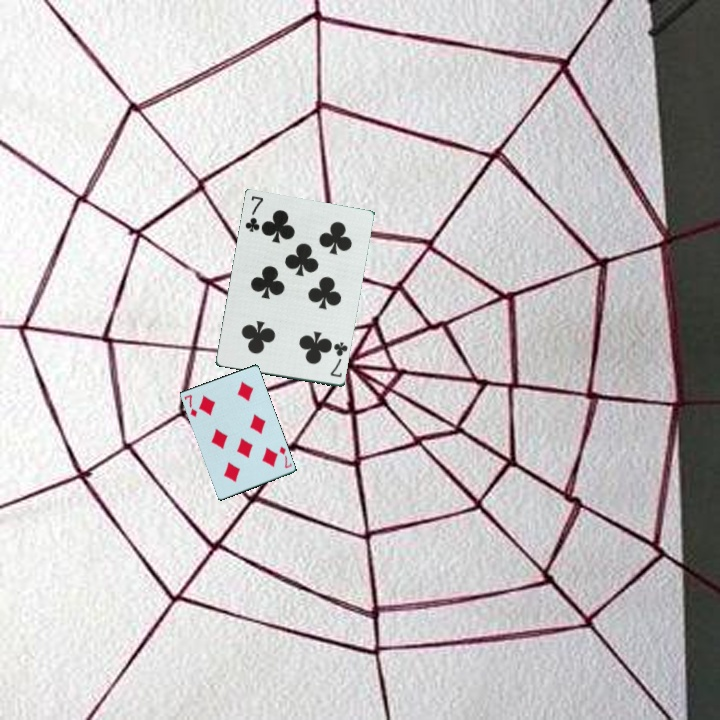7c: (327, 338, 351, 380), (242, 193, 265, 235)
7d: (181, 391, 200, 420), (276, 443, 295, 471)
